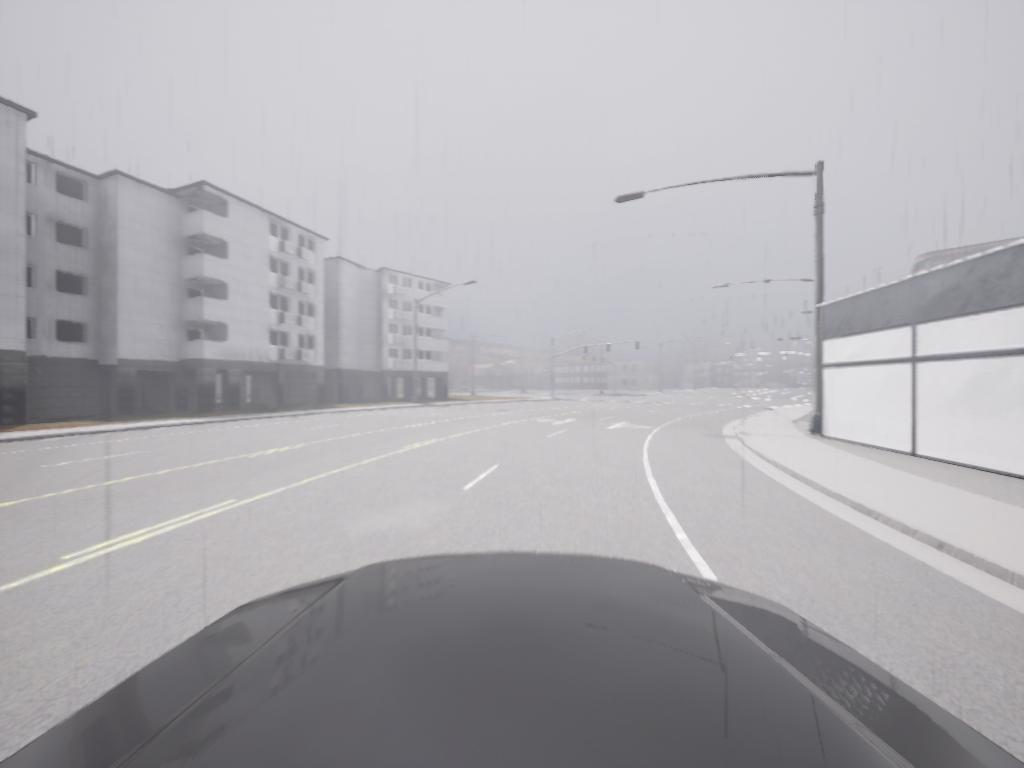traffic_light: (607, 344, 613, 356), (635, 341, 640, 353), (584, 347, 589, 358)
